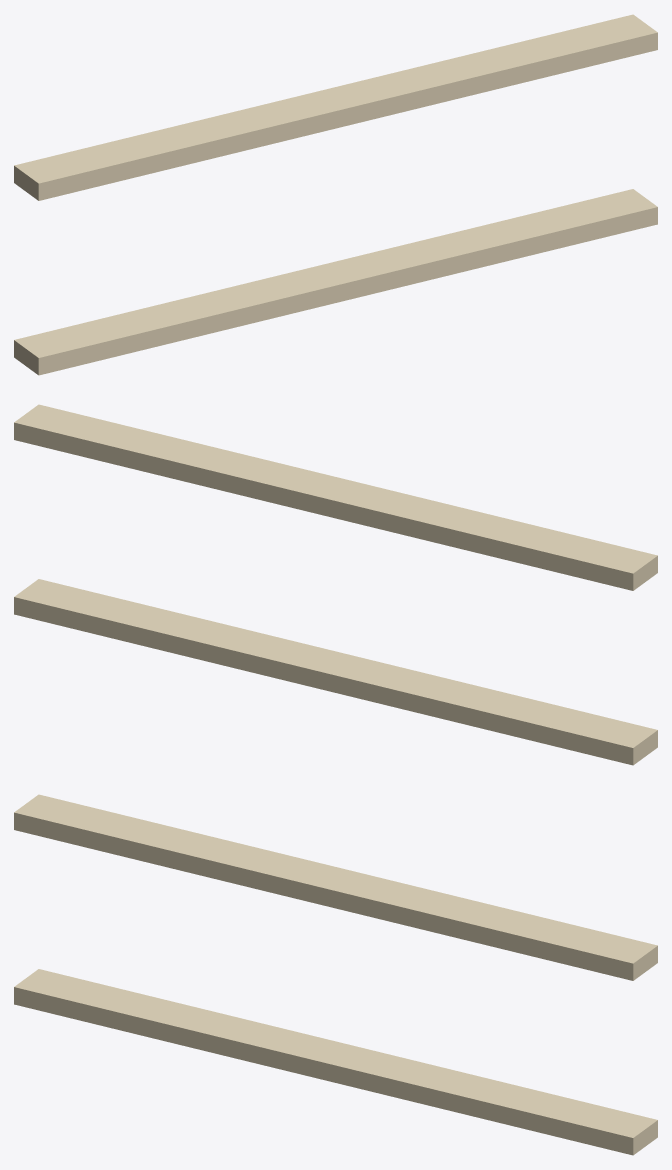
Rendered from StageFacade_Trim.fbx.
3 views of the same model, one above another, from view 1: azimuth 30°, elevation 25°; view 2: azimuth 150°, elevation 25°; view 3: azimuth 330°, elevation 25° (orthographic).
Parts seen in each view (by area): view 1: FacadeCornice0.001; view 2: FacadeCornice0.001; view 3: FacadeCornice0.001.
Part boxes in pixels (left/top/right/bottom): FacadeCornice0.001: left=14, top=14, right=657, bottom=375; FacadeCornice0.001: left=14, top=404, right=657, bottom=765; FacadeCornice0.001: left=14, top=794, right=657, bottom=1155.
Bounding box in the file's own units: 5200 × 1540 × 360.
